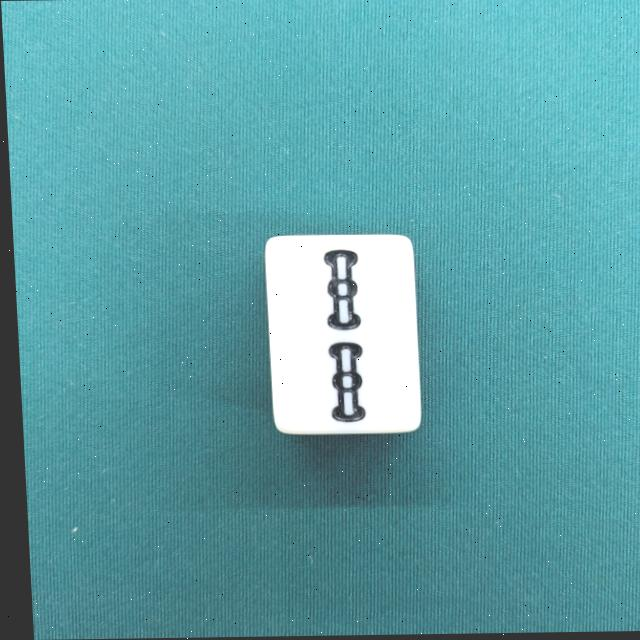2s: (257, 233, 418, 435)
